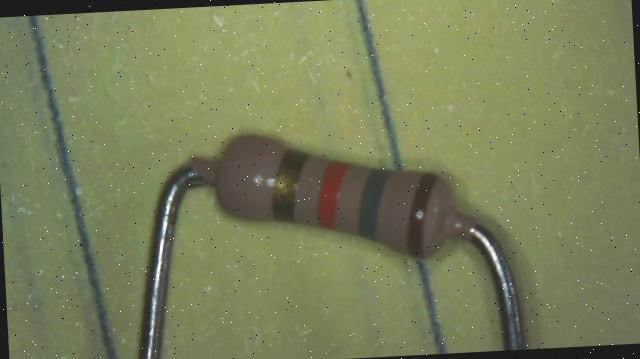brown: (406, 172, 442, 258)
gold: (270, 148, 308, 221)
grey: (354, 168, 393, 240)
orange: (314, 160, 351, 229)
resistor: (190, 107, 486, 286)
